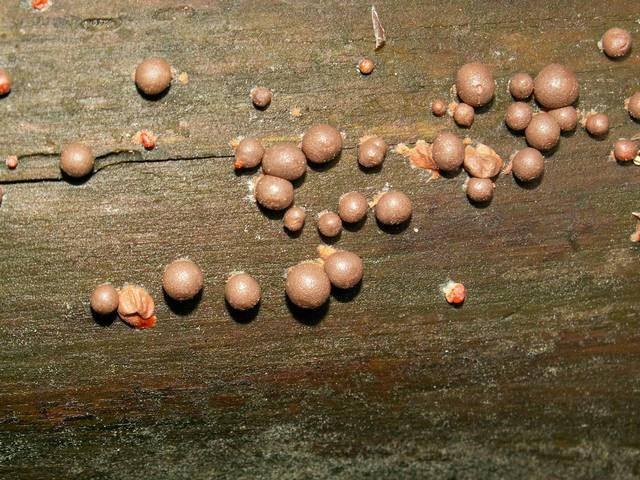Non-edible Mushroom: (222, 52, 640, 220), (284, 259, 330, 309), (161, 257, 203, 301), (454, 61, 495, 106), (116, 283, 156, 328), (301, 123, 342, 164), (133, 56, 172, 95), (324, 249, 363, 288), (223, 271, 261, 311), (374, 190, 412, 225), (59, 141, 94, 178), (597, 26, 632, 58), (89, 282, 118, 316), (440, 278, 466, 305)
